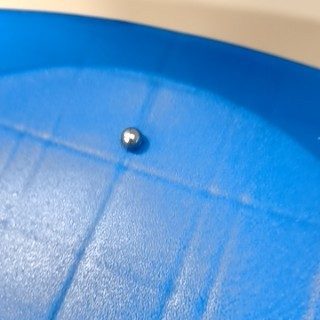ironball: (112, 122, 152, 158)
